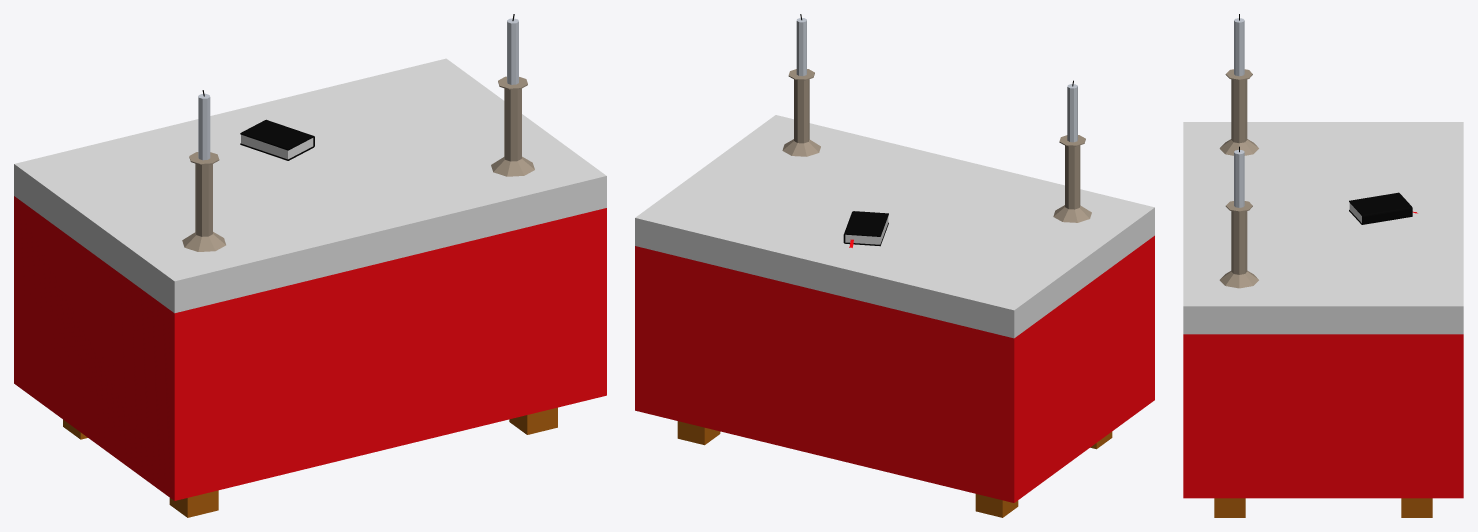
The model's file is MesaCapela.fbx.
3 views of the same model, side by side, from view 1: azimuth 30°, elevation 25°; view 2: azimuth 150°, elevation 25°; view 3: azimuth 270°, elevation 25° (orthographic). The views are drawn at different scales.
Visible parts, largest first — view 1: Cube, Circle, Cube.001, Cube.010; view 2: Cube, Circle, Cube.010, Cube.001; view 3: Cube, Circle, Cube.001, Cube.010.
Boxes of the visible parts, x1,y1,x2,y2 form: Cube: [14, 58, 606, 500]; Circle: [182, 14, 534, 251]; Cube.001: [240, 119, 314, 160]; Cube.010: [63, 407, 557, 517]; Cube: [635, 115, 1154, 502]; Circle: [782, 14, 1091, 222]; Cube.010: [677, 421, 1112, 517]; Cube.001: [843, 211, 888, 247]; Cube: [1183, 122, 1463, 498]; Circle: [1219, 14, 1258, 288]; Cube.001: [1349, 192, 1417, 224]; Cube.010: [1214, 498, 1432, 517].
Size of the model in its own units: 140 by 127 by 90.
